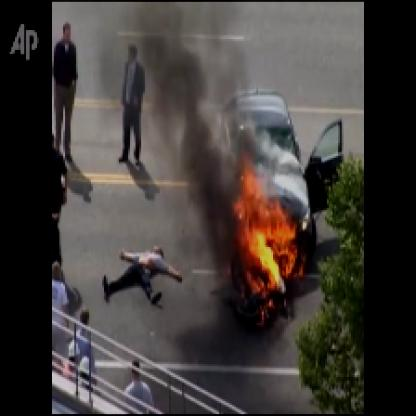Fire: (217, 137, 305, 316)
Smoke: (141, 2, 238, 269)
